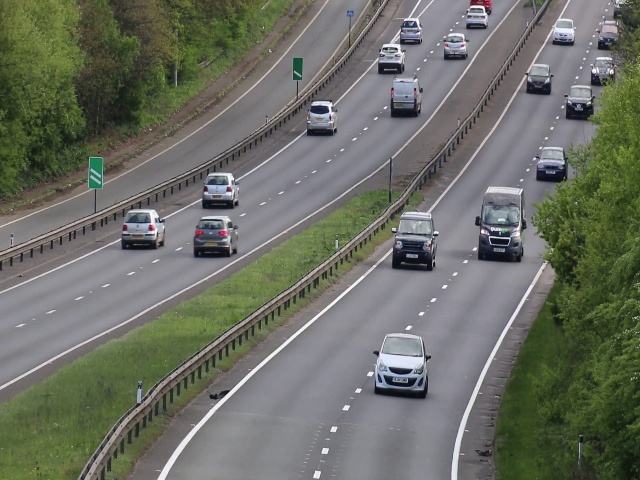car: (475, 188, 526, 257), (377, 330, 426, 394), (392, 211, 432, 270), (119, 207, 167, 250), (193, 213, 239, 256), (201, 168, 239, 205), (388, 76, 423, 114), (305, 98, 341, 134), (535, 140, 565, 180), (563, 80, 595, 117), (523, 62, 556, 93), (376, 40, 405, 73), (551, 15, 576, 45), (590, 54, 614, 82), (441, 33, 468, 57), (400, 15, 422, 44), (466, 9, 488, 29)
